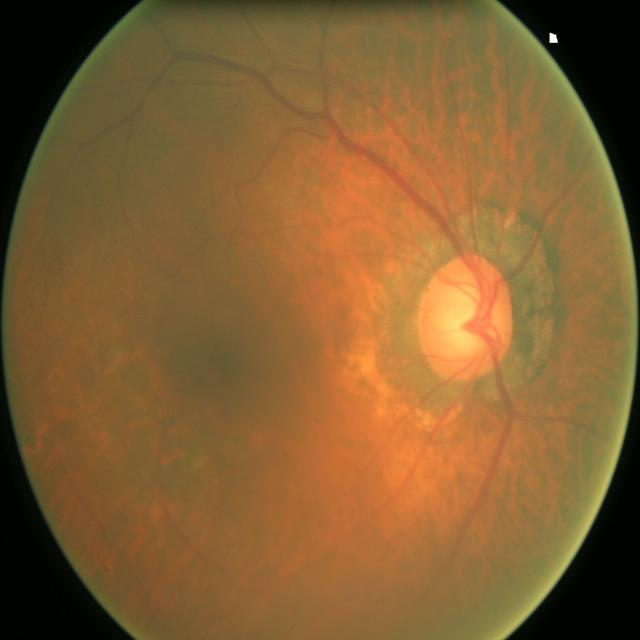OC: (436, 276, 499, 363)
OD: (421, 257, 516, 383)
